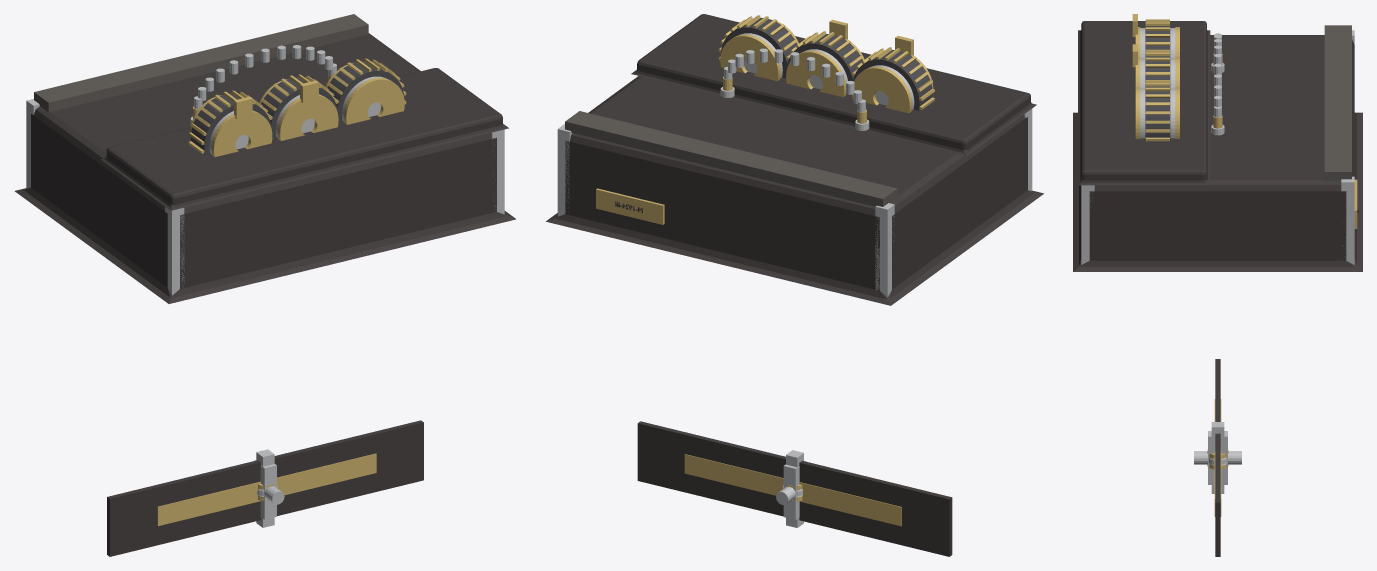
File: Enigma.fbx
3 views of the same model, side by side, from view 1: azimuth 30°, elevation 25°; view 2: azimuth 150°, elevation 25°; view 3: azimuth 270°, elevation 25° (orthographic). The views are drawn at different scales.
Visible parts, largest first — view 1: EM_Case, EM_LidBack, EM_PlugPanel, EM_LidFrontPanel, EM_RotorCoverRail, Rotor_2_Cap0, Rotor_0_Cap0, Rotor_1_Cap0, EM_Corner_-1-1, Rotor_0_Ring, Rotor_2_Ring, Rotor_1_Ring (+2 smaller); view 2: EM_Case, EM_LidBack, EM_PlugPanel, EM_LidFrontPanel, EM_RotorCoverRail, Rotor_0_Cap1, Rotor_1_Cap1, Rotor_2_Cap1, EM_Corner_-11, EM_SerialPlate, Rotor_0_Ring, Rotor_2_Ring (+3 smaller); view 3: EM_Case, EM_LidBack, EM_LidFrontPanel, EM_PlugPanel, Rotor_2_Ring, EM_Corner_11, EM_Corner_1-1, Rotor_2, EM_LeverBracket, Rotor_0_Ring, Rotor_1_Ring, Rotor_0_Axle (+2 smaller).
Part boxes in pixels (x1,y1,x2,y2): EM_Case: (14,33,515,303); EM_LidBack: (100,68,508,210); EM_PlugPanel: (107,420,423,556); EM_LidFrontPanel: (34,14,368,112); EM_RotorCoverRail: (157,453,376,526); Rotor_2_Cap0: (344,77,404,124); Rotor_0_Cap0: (211,111,272,156); Rotor_1_Cap0: (277,94,338,140); EM_Corner_-1-1: (165,207,184,295); Rotor_0_Ring: (190,93,271,154); Rotor_2_Ring: (327,61,404,121); Rotor_1_Ring: (261,77,337,137); EM_Case: (546,76,1043,305); EM_LidBack: (631,14,1036,155); EM_PlugPanel: (637,421,952,556); EM_LidFrontPanel: (565,111,897,206); EM_RotorCoverRail: (684,454,901,526); Rotor_0_Cap1: (852,66,912,113); Rotor_1_Cap1: (786,50,845,97); Rotor_2_Cap1: (720,34,780,81); EM_Corner_-11: (875,203,894,297); EM_SerialPlate: (596,188,664,224); Rotor_0_Ring: (853,50,932,110); Rotor_2_Ring: (721,18,797,78); EM_Case: (1073,35,1362,271); EM_LidBack: (1078,21,1210,185); EM_LidFrontPanel: (1324,25,1351,180); EM_PlugPanel: (1215,359,1220,556); Rotor_2_Ring: (1145,83,1170,140); EM_Corner_11: (1341,176,1354,264); EM_Corner_1-1: (1081,185,1094,264); Rotor_2: (1140,88,1175,138); EM_LeverBracket: (1208,431,1227,484); Rotor_0_Ring: (1145,22,1170,51); Rotor_1_Ring: (1145,52,1170,82); Rotor_0_Axle: (1194,451,1241,464).
Size of the model in its own units: 1.13 by 1.47 by 0.87.
